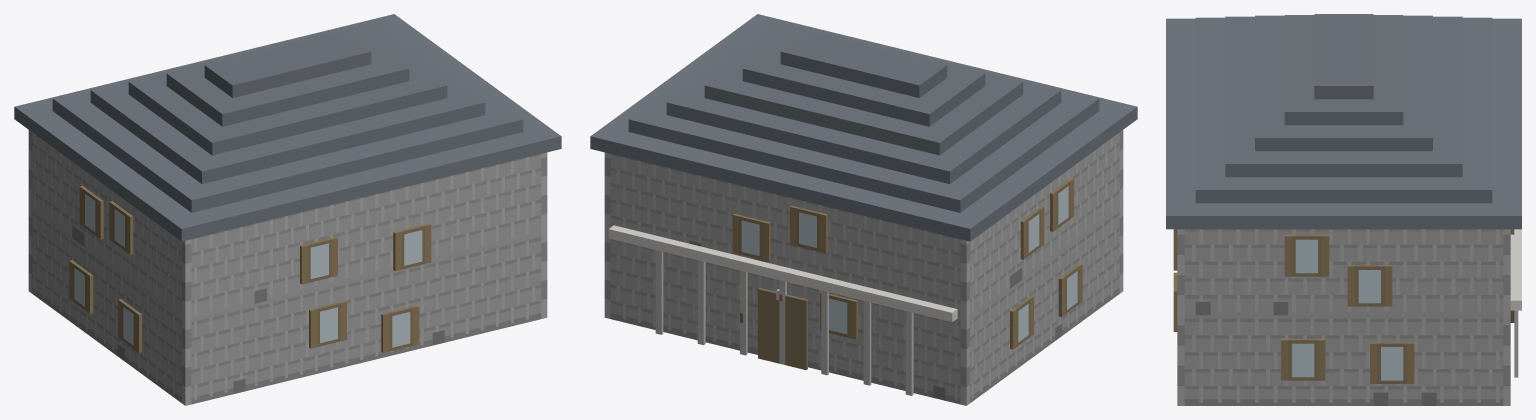
Rendered from salon_jarl_04.glb.
3 renders of one model, left to right at view 1: azimuth 30°, elevation 25°; view 2: azimuth 150°, elevation 25°; view 3: azimuth 270°, elevation 25°, orthographic. The views are drawn at different scales.
Visible parts, largest first — view 1: salon_jarl_04; view 2: salon_jarl_04; view 3: salon_jarl_04.
Boxes of the visible parts, x1,y1,x2,y2 form: salon_jarl_04: (14, 14, 561, 405); salon_jarl_04: (590, 14, 1137, 405); salon_jarl_04: (1166, 14, 1521, 405).
Bounding box in the file's own units: 12.6 × 7.8 × 9.6.
